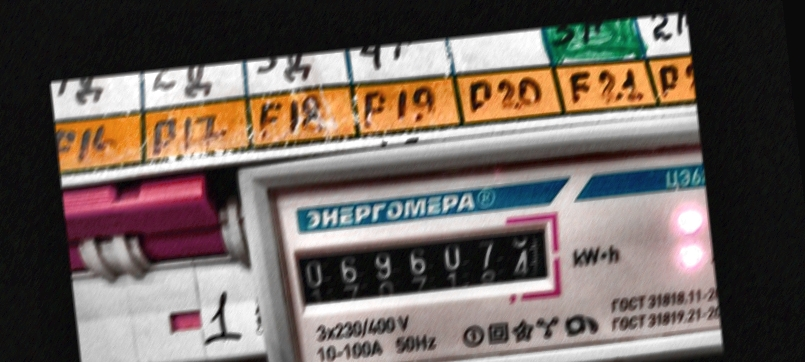0: (441, 240, 463, 272), (303, 258, 324, 288)
4: (511, 247, 530, 277)
6: (406, 245, 428, 276), (337, 253, 359, 283)
7: (477, 238, 497, 270)
9: (372, 250, 392, 280)
screen: (278, 204, 571, 324)
